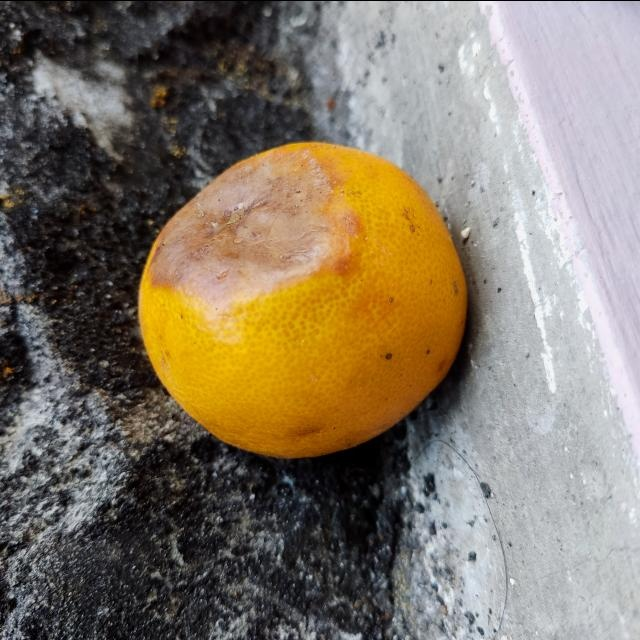agrume: (138, 144, 470, 458)
